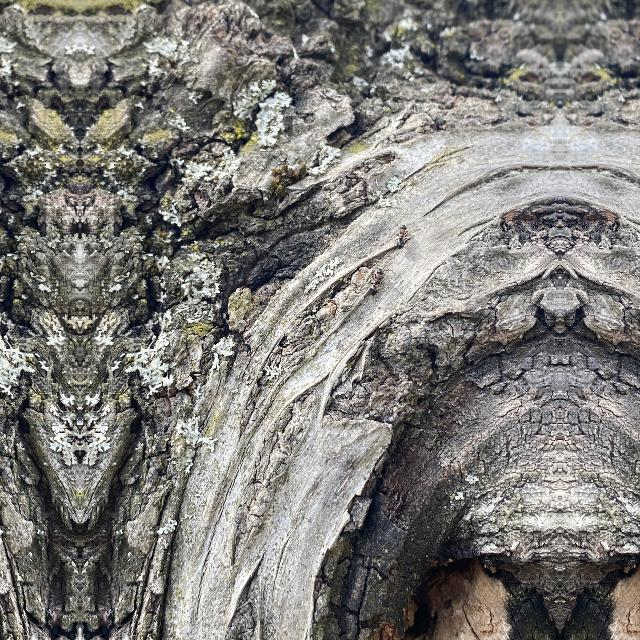Dolichoderus: (363, 264, 385, 300), (392, 218, 412, 254)
